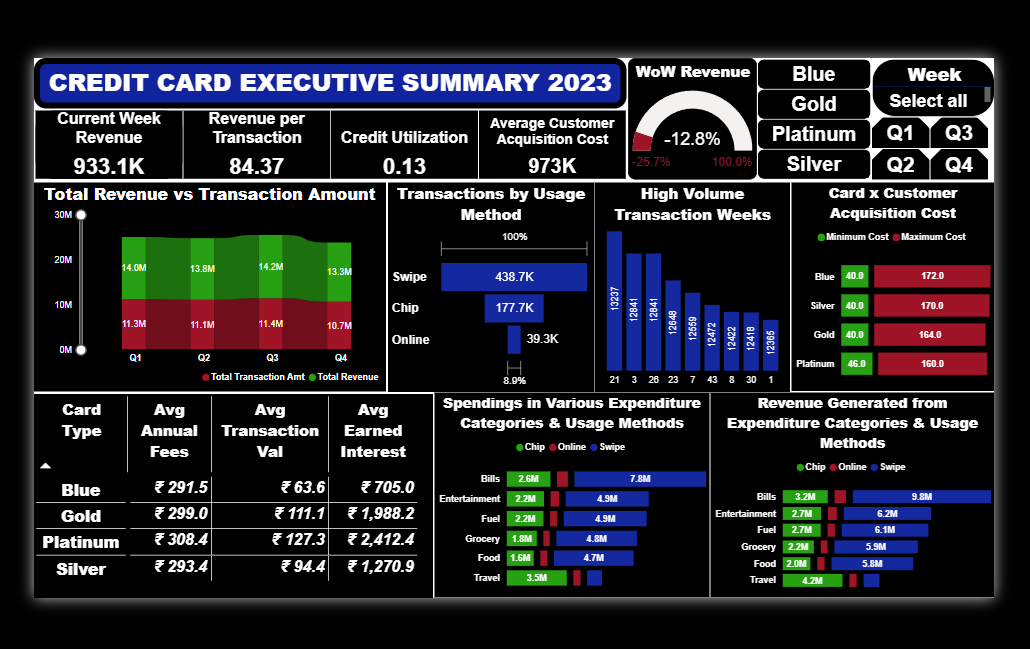

What the dashboard file says about the page in this screenshot:
{"tool":"powerbi","page":{"name":"Credit Card Dash","canvas":[1280,720],"ordinal":0},"visuals":[{"type":"ribbonChart","title":"Total Revenue vs Transaction Amount","fields":{"Category":["credit_card.Qtr"],"Y":["Sum(credit_card.Total_Trans_Amt)","Sum(credit_card.Revenue)"]},"box":[0,165,469,278],"z":0},{"type":"textbox","box":[0,0,790,67],"z":1000},{"type":"barChart","title":"Spendings in Various Expenditure Categories & Usage Methods","fields":{"Category":["credit_card.Exp Type"],"Series":["credit_card.Use Chip"],"Y":["Sum(credit_card.Total_Trans_Amt)"]},"box":[533.3,446.7,366.7,273.3],"z":2000},{"type":"advancedSlicerVisual","fields":{"Values":["credit_card.Qtr"]},"box":[1112.9,73.7,166.5,94.5],"z":3000},{"type":"advancedSlicerVisual","fields":{"Values":["credit_card.Card_Category"]},"box":[960.8,0,160.1,164.9],"z":4000},{"type":"cardVisual","fields":{"Data":["credit_card.CurrentWeekRevenue","credit_card.Revenue_per_transaction","credit_card.Credit_Utilization","Sum(credit_card.Customer_Acq_Cost)"]},"box":[0,68,793,98],"z":5000},{"type":"funnel","title":"Transactions by Usage Method ","fields":{"Category":["credit_card.Use Chip"],"Y":["Sum(credit_card.Total_Trans_Vol)"]},"box":[471.7,165,275,279],"z":6000},{"type":"pivotTable","fields":{"Values":["Avg(credit_card.Annual_Fees)","credit_card.Average_Trans_Val","Avg(credit_card.Interest_Earned)"],"Rows":["credit_card.Card_Category"]},"box":[0,447.4,531.7,273],"z":7000},{"type":"gauge","title":"WoW Revenue","fields":{"Y":["credit_card.WkonWkRevenue"]},"box":[792,0,172,162],"z":8000},{"type":"advancedSlicerVisual","title":"Week","fields":{"Values":["credit_card.Week_Start_Date"]},"box":[1117.7,1.6,161.7,75.3],"z":9000},{"type":"barChart","title":"Revenue Generated from Expenditure Categories & Usage Methods","fields":{"Category":["credit_card.Exp Type"],"Series":["credit_card.Use Chip"],"Y":["Sum(credit_card.Revenue)"]},"box":[901.7,446.7,379,273.3],"z":10000},{"type":"barChart","title":"Card x Customer Acquisition Cost","fields":{"Y":["Min(credit_card.Customer_Acq_Cost)","Max(credit_card.Customer_Acq_Cost)1"],"Category":["credit_card.Card_Category"]},"box":[1009.4,165.6,270.6,278],"z":11000},{"type":"columnChart","title":"High Volume Transaction Weeks","fields":{"Category":["credit_card.WeekNum"],"Y":["Sum(credit_card.Total_Trans_Vol)"]},"box":[748.3,165,260,279],"z":12000}]}

Visuals, with their boxes on the page's 1280x720 design canvas (x1, y1, x2, y2). These are canvas units, not pixel positions in the 1030x649 screenshot, which may show the page scaled, cropped or inside an application window:
"Total Revenue vs Transaction Amount" ribbonChart: Rect(0, 165, 469, 443)
textbox: Rect(0, 0, 790, 67)
"Spendings in Various Expenditure Categories & Usage Methods" barChart: Rect(533, 447, 900, 720)
advancedSlicerVisual - credit_card.Qtr: Rect(1113, 74, 1279, 168)
advancedSlicerVisual - credit_card.Card_Category: Rect(961, 0, 1121, 165)
cardVisual - credit_card.CurrentWeekRevenue x credit_card.Revenue_per_transaction: Rect(0, 68, 793, 166)
"Transactions by Usage Method " funnel: Rect(472, 165, 747, 444)
pivotTable - Avg(credit_card.Annual_Fees) x credit_card.Average_Trans_Val: Rect(0, 447, 532, 720)
"WoW Revenue" gauge: Rect(792, 0, 964, 162)
"Week" advancedSlicerVisual: Rect(1118, 2, 1279, 77)
"Revenue Generated from Expenditure Categories & Usage Methods" barChart: Rect(902, 447, 1281, 720)
"Card x Customer Acquisition Cost" barChart: Rect(1009, 166, 1280, 444)
"High Volume Transaction Weeks" columnChart: Rect(748, 165, 1008, 444)
